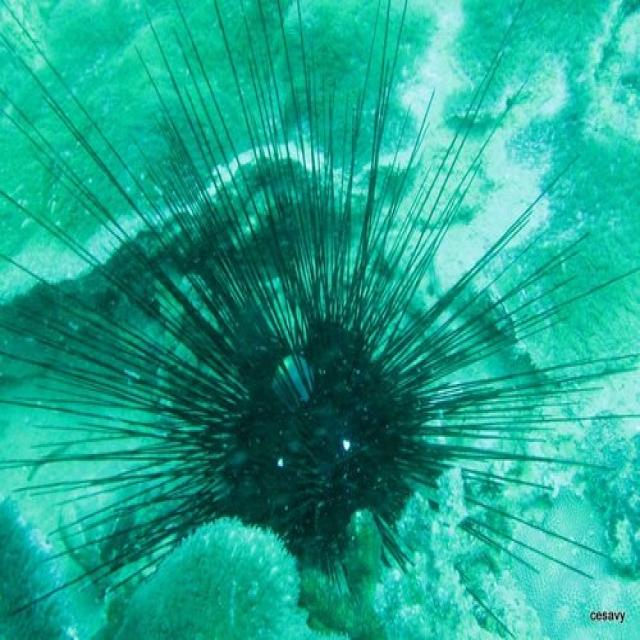Urchin: (5, 16, 545, 590)
